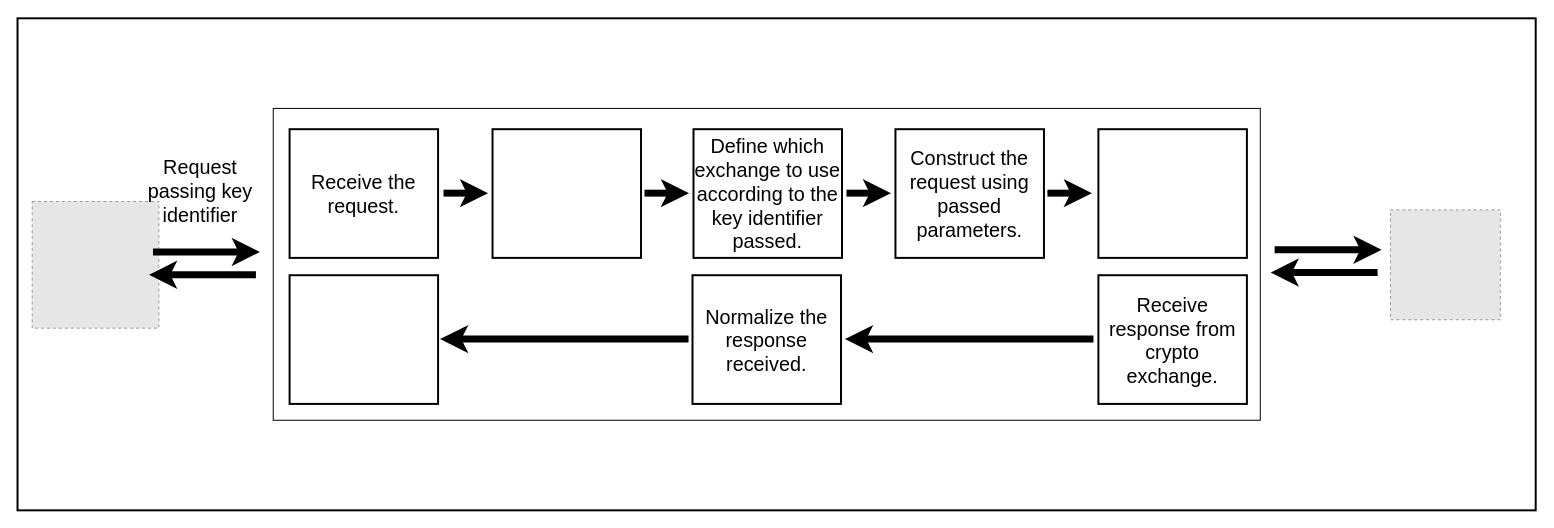
This 1554x528 diagram has some shape labels left out. Grey dashed boxes stand in for pictures. Each missing label, with the centre of its shape:
"Find the key using the key identifier passed." goes at point (566, 193).
"Return normalized response." goes at point (363, 339).
"Send the request to the cryptocurrency exchange." goes at point (1172, 193).
